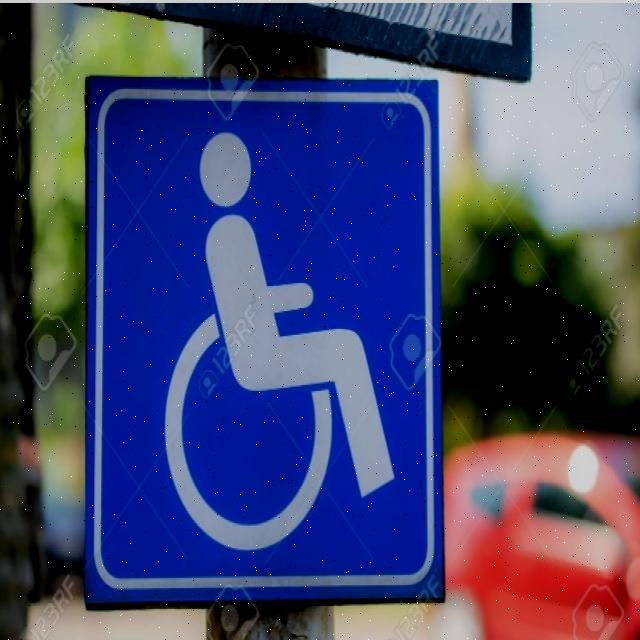symbol_of_access: (80, 70, 447, 610)
